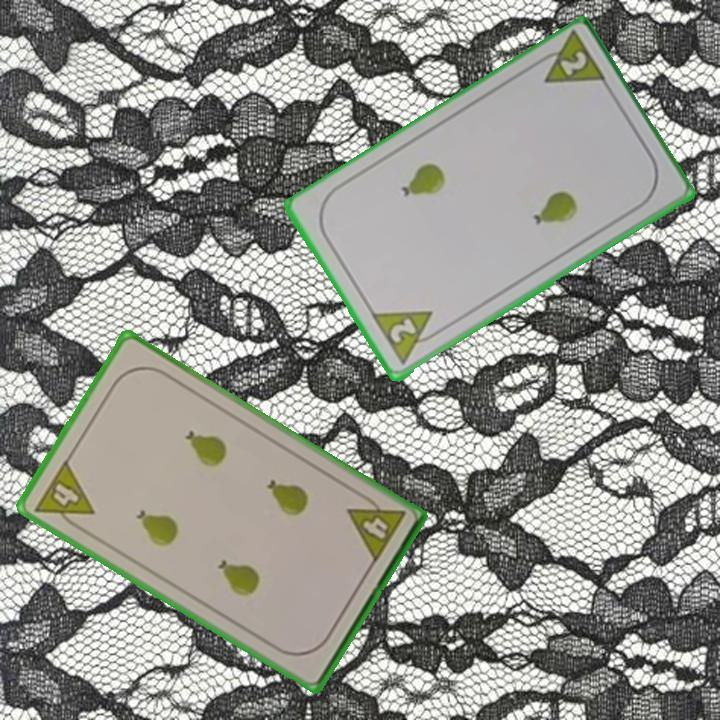2p: (368, 307, 446, 368), (530, 30, 610, 89)
4p: (30, 456, 97, 535), (343, 489, 408, 566)
